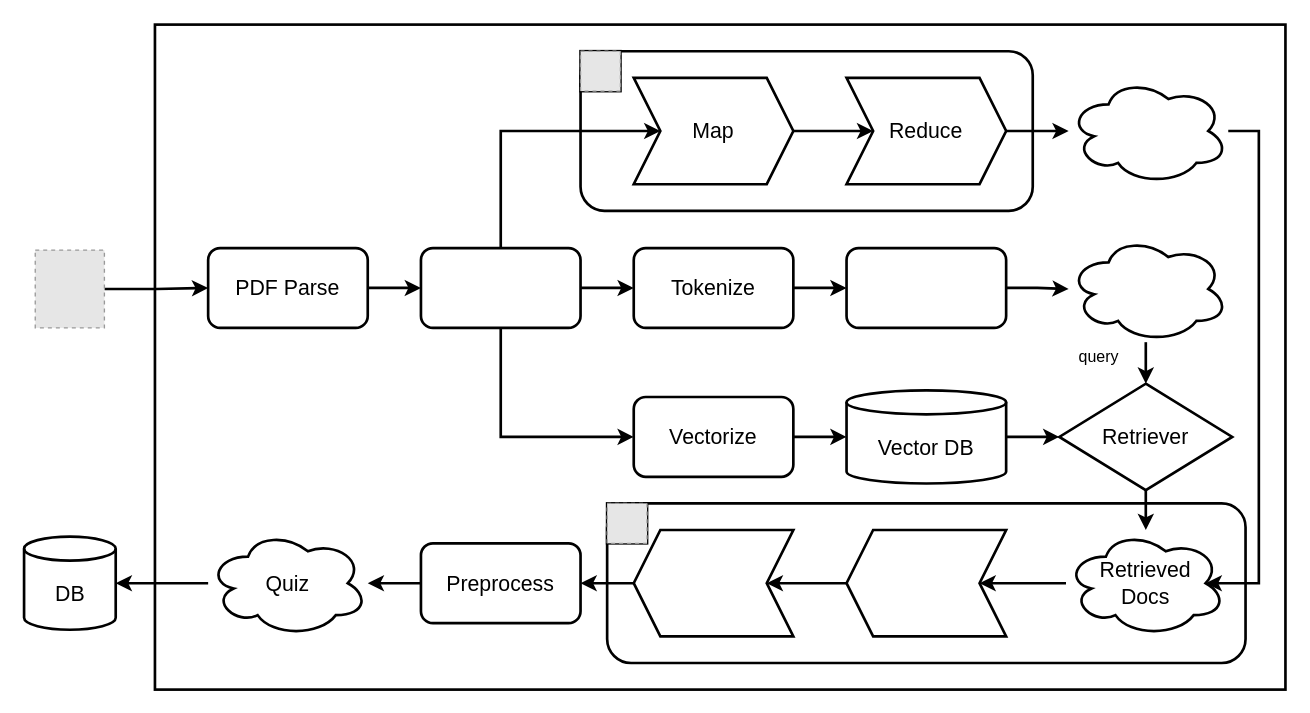
Some shapes in this 1310 by 713 pixel diagram are drawn without their labels. Grey dashed boxes stand in for pictures. Here are the shapes that lost their labels. From the top down, the box of each, then its label:
(1067, 76, 1229, 185): Summary
(419, 246, 581, 329): Text Split
(845, 246, 1007, 329): TF-IDF
(1067, 234, 1229, 343): Keywords
(632, 528, 794, 637): JSON Format
(845, 528, 1007, 637): Quiz Generate
